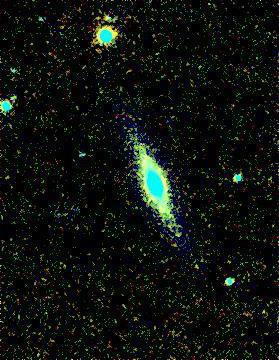star: (165, 219, 195, 249)
